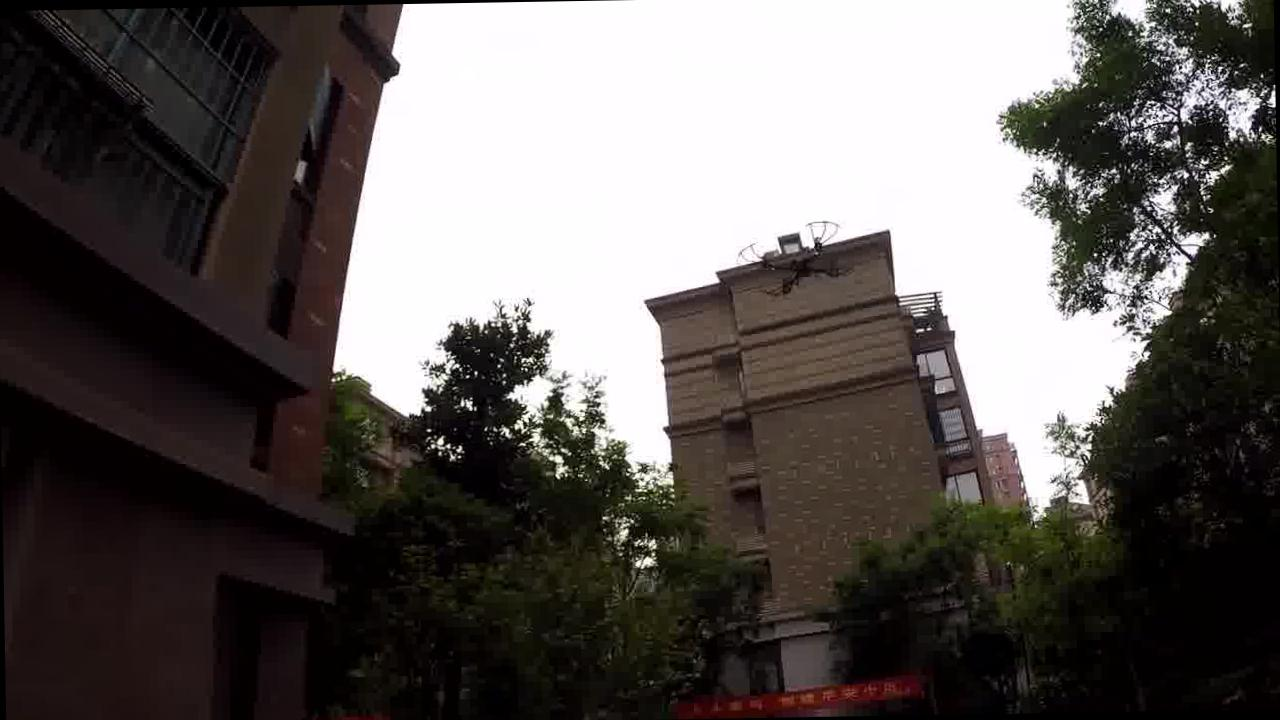drone: (728, 216, 886, 308)
